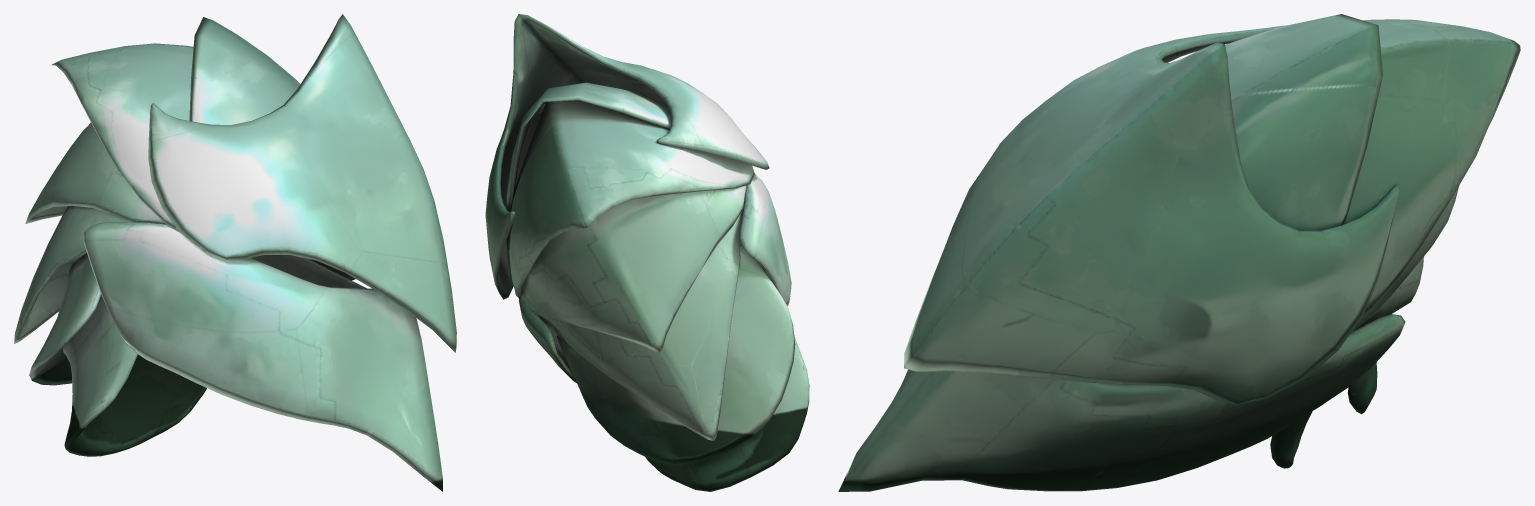
File: schach.glb
3 views of the same model, side by side, from view 1: azimuth 30°, elevation 25°; view 2: azimuth 150°, elevation 25°; view 3: azimuth 270°, elevation 25° (orthographic). The views are drawn at different scales.
Parts seen in each view (by area): view 1: Helm.001; view 2: Helm.001; view 3: Helm.001.
Boxes of the visible parts, x1,y1,x2,y2 form: Helm.001: (14, 14, 456, 491); Helm.001: (485, 14, 809, 491); Helm.001: (838, 14, 1520, 491).
Size of the model in its own units: 9.43 by 11.46 by 13.09.
1 material, 1 textured.
